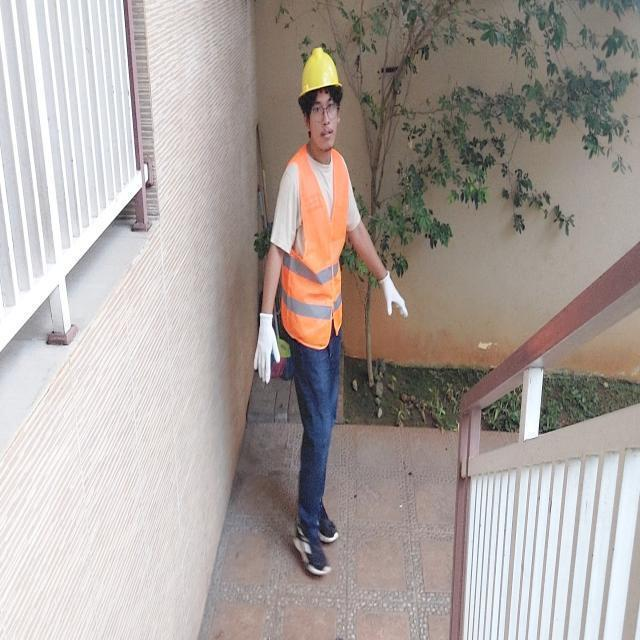helmet: (293, 48, 370, 106)
safety_vest: (254, 150, 380, 363)
